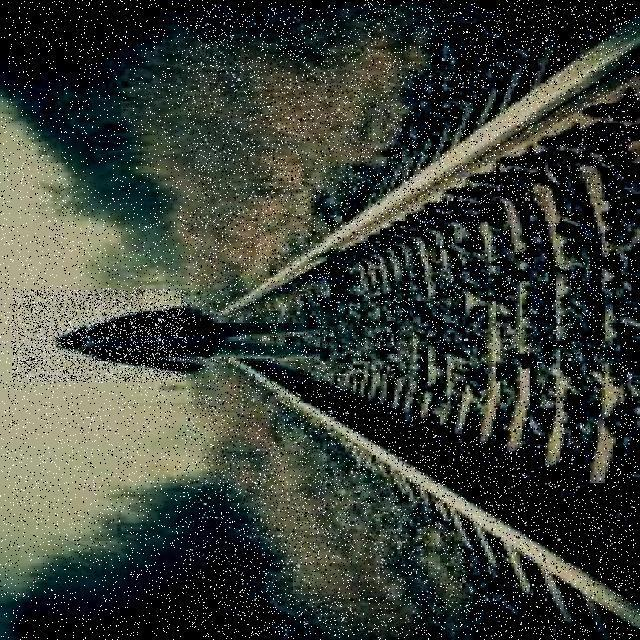danger: (12, 290, 342, 382)
rail: (186, 4, 636, 635)
